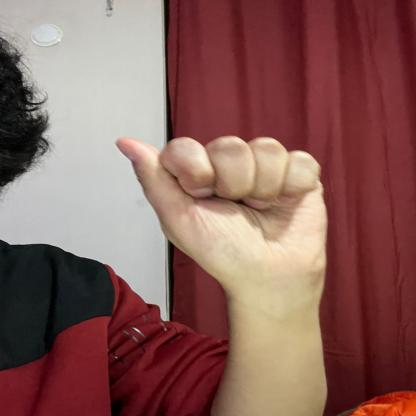A: (107, 132, 338, 274)
